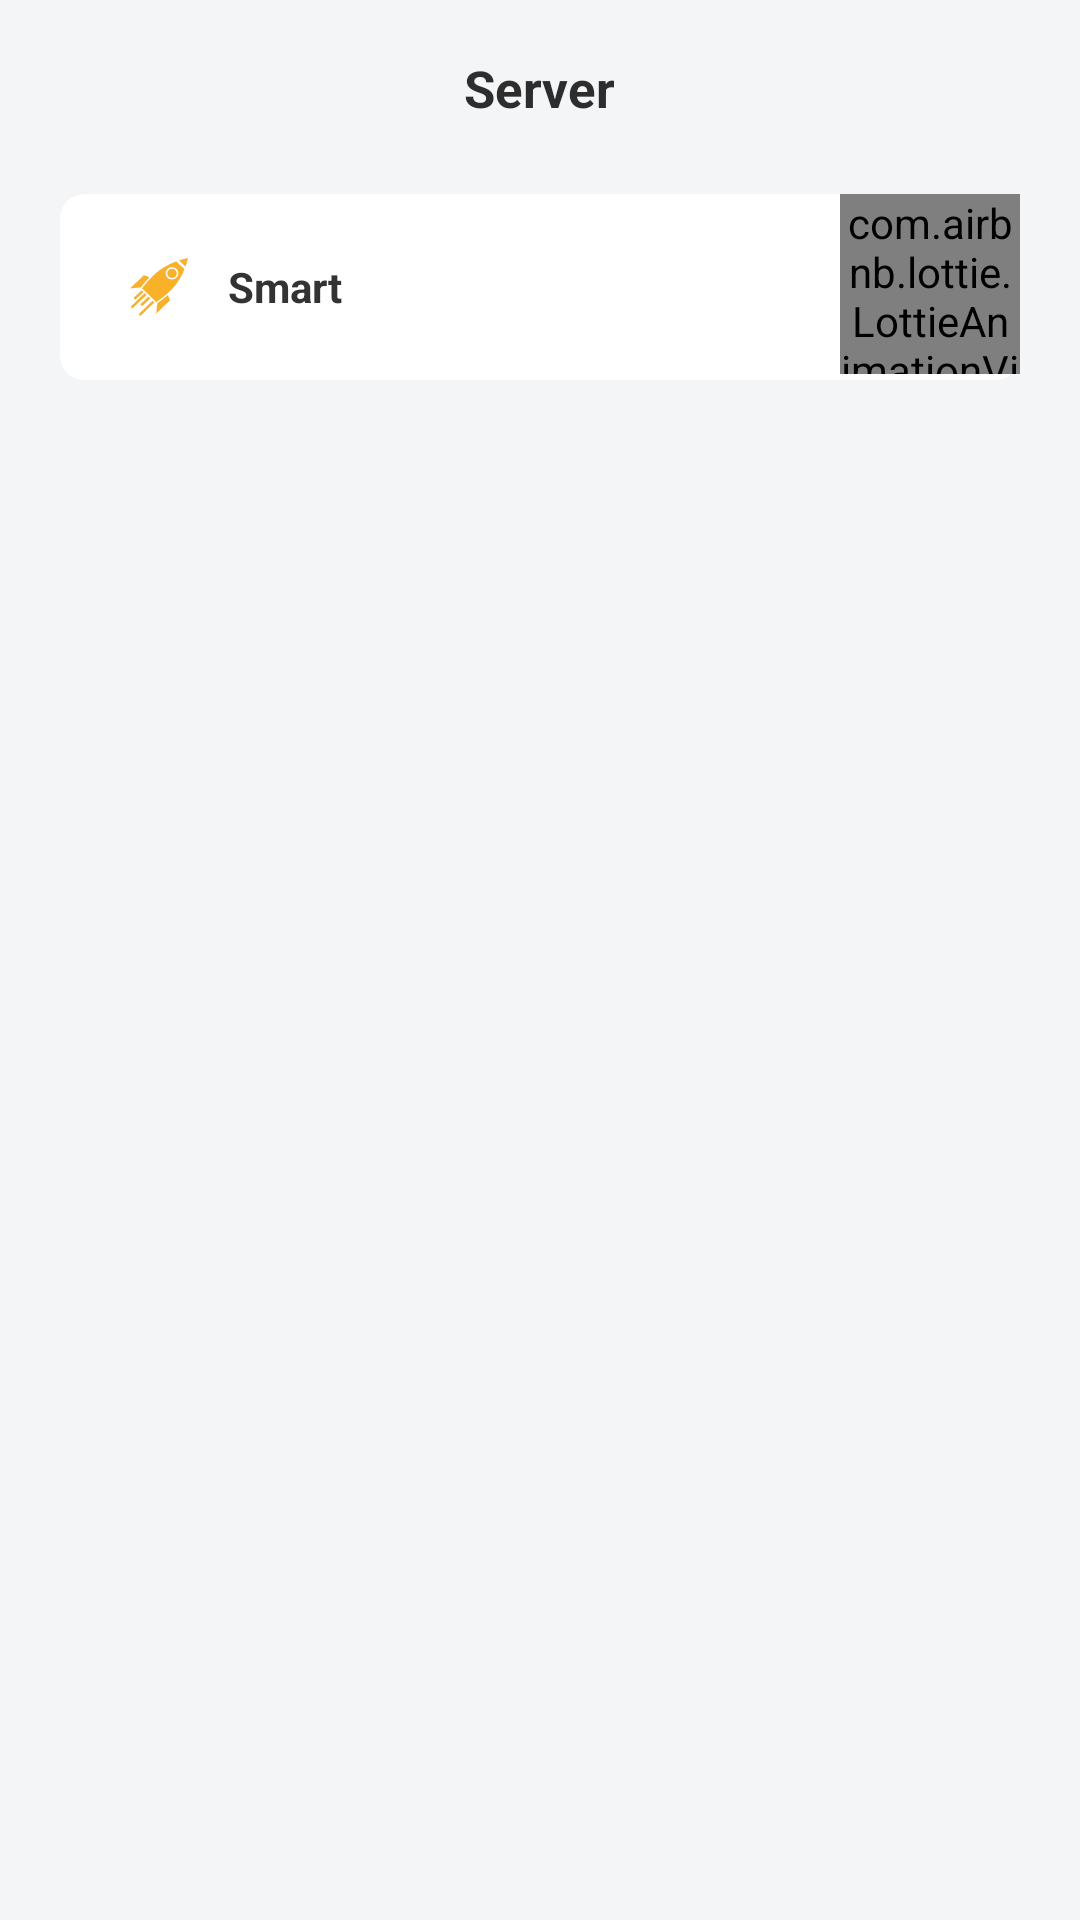

Icons on this 1080*1920 Android screen, each with its box as (x1, y1, x2, y2):
server fast: (130, 258, 188, 316)
